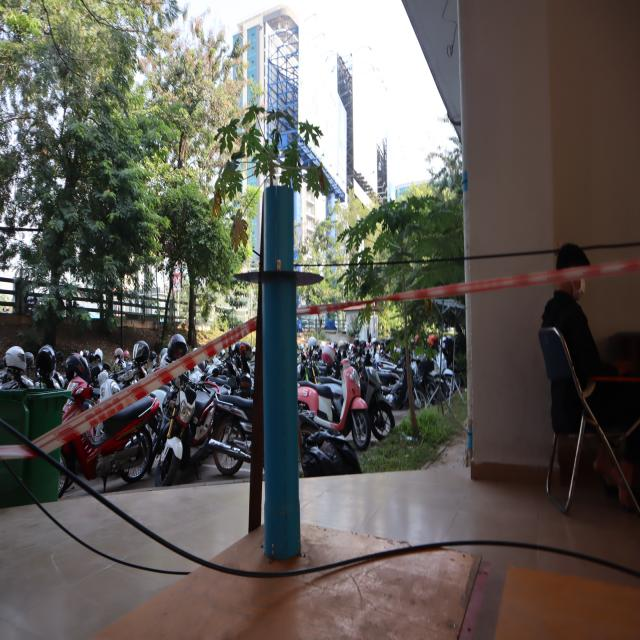pole: (229, 179, 327, 368)
